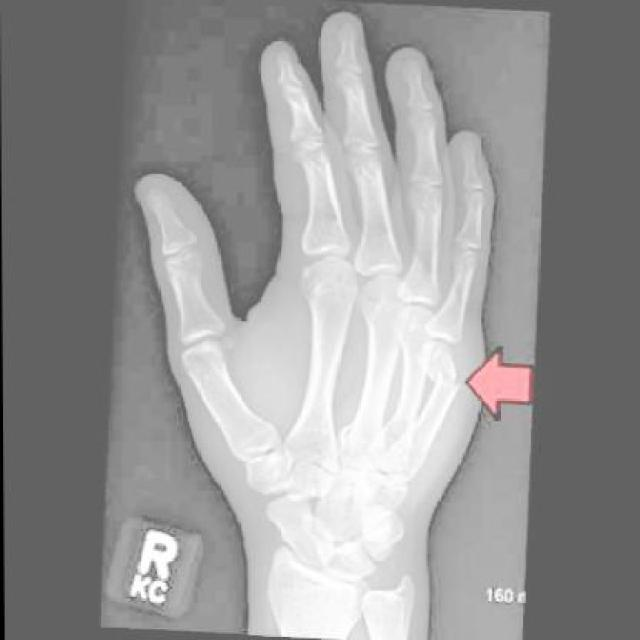Fracture: (416, 354, 467, 411)
